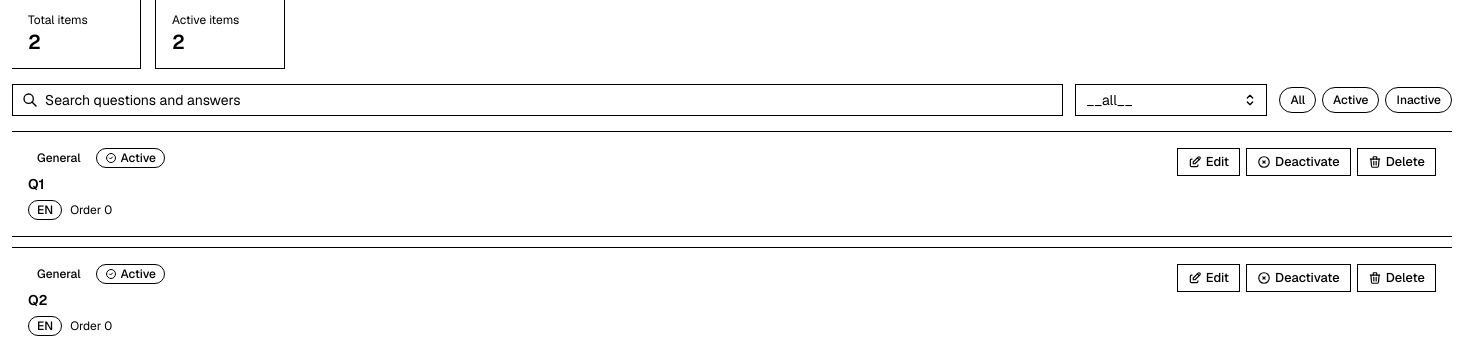
KnowledgeView — filters and search › search matches answer text too
Expected: the text "Q1" is shown, [28,175,45,193]
Type "3pm" into the search field named "Search knowledge base" at (538, 100), box [12,84,1063,116]
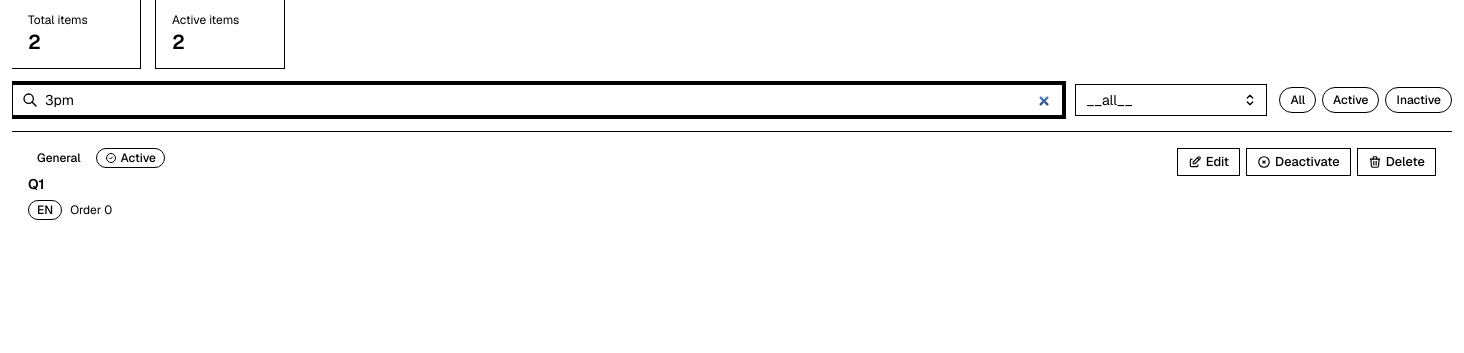
Expected: the text "Q1" is shown, [28,175,45,193]
Now the text "Q2" is gone
